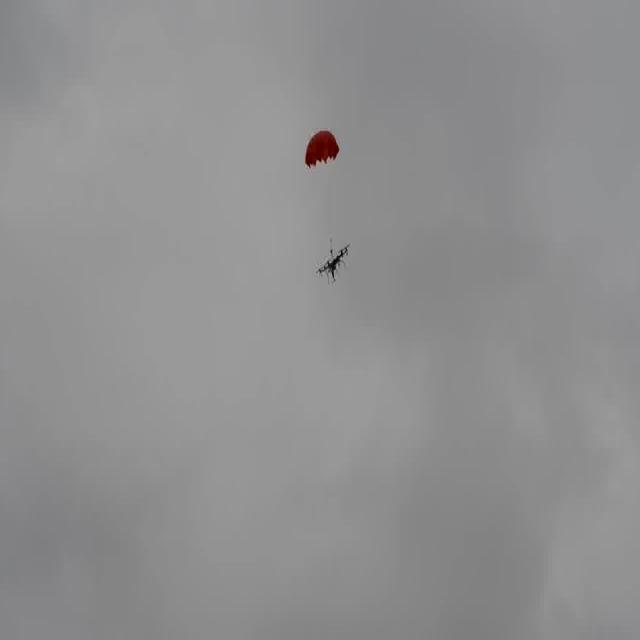Drone_FW: (316, 228, 352, 290)
